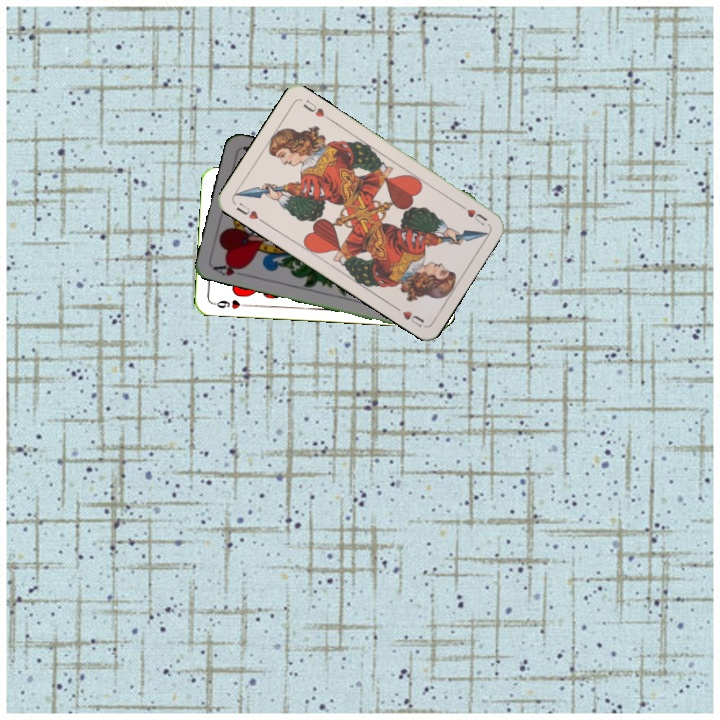H9: (209, 296, 250, 312)
HA: (210, 259, 250, 279)
HU: (232, 198, 267, 226), (455, 200, 490, 228)
